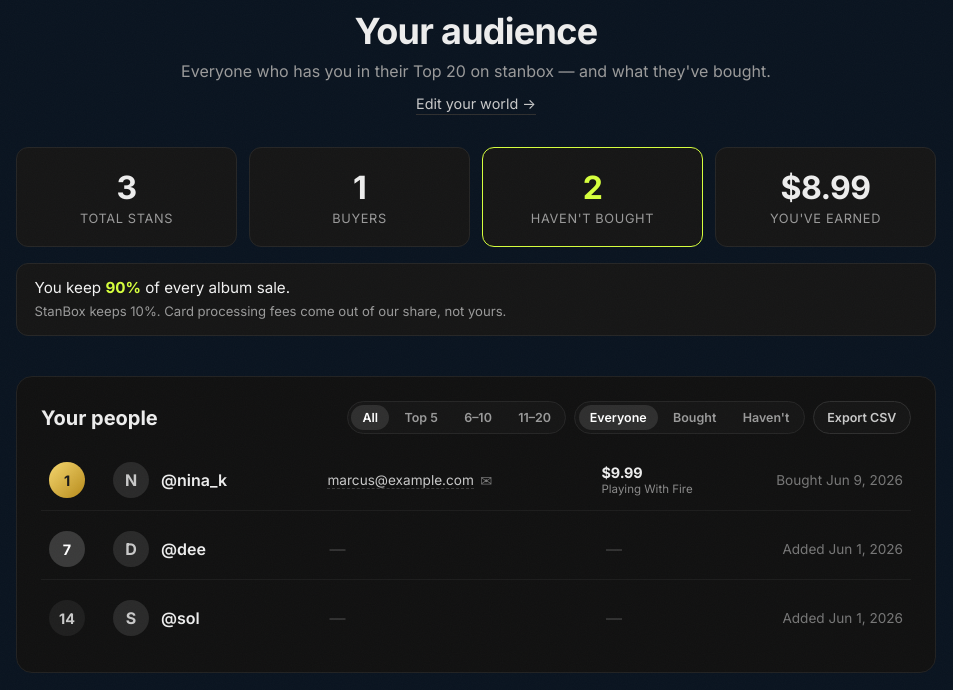
Test: ArtistDashboard › filters › narrows to the top 5
Expected: the text "@nina_k" is shown, [161,470,227,490]
Click the button "Top 5": [421, 418] box [393,405,449,430]
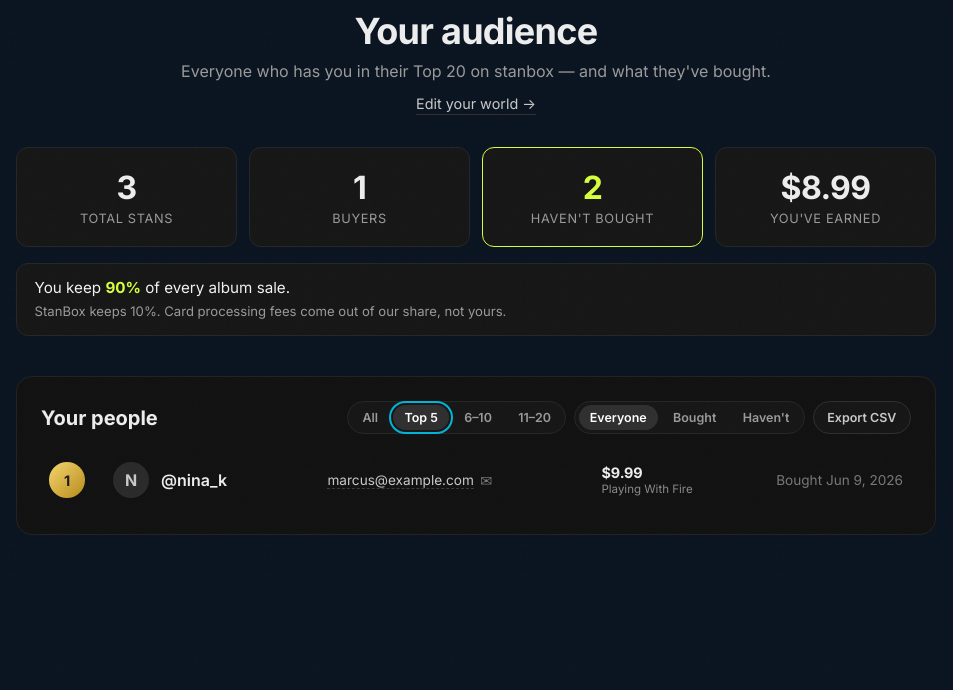
Expected: the text "@nina_k" is shown, [161,470,227,490]
Expected: the link "@dee" is gone
Expected: the link "@sol" is gone
